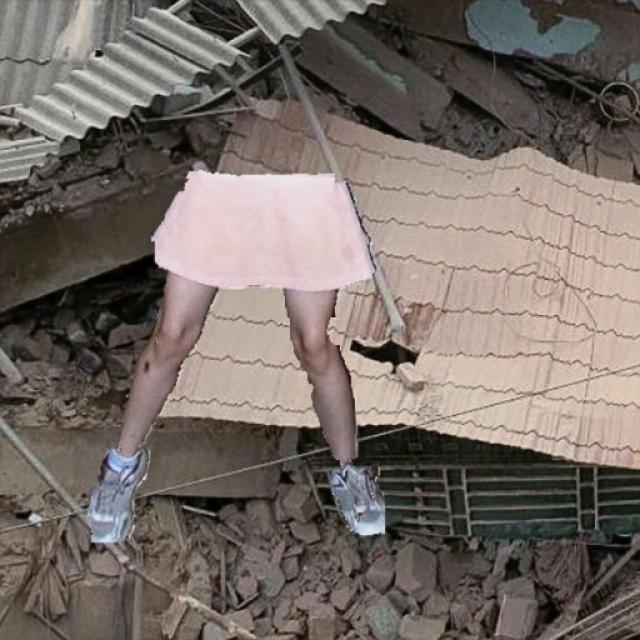Person in Rubble: (88, 170, 384, 541)
